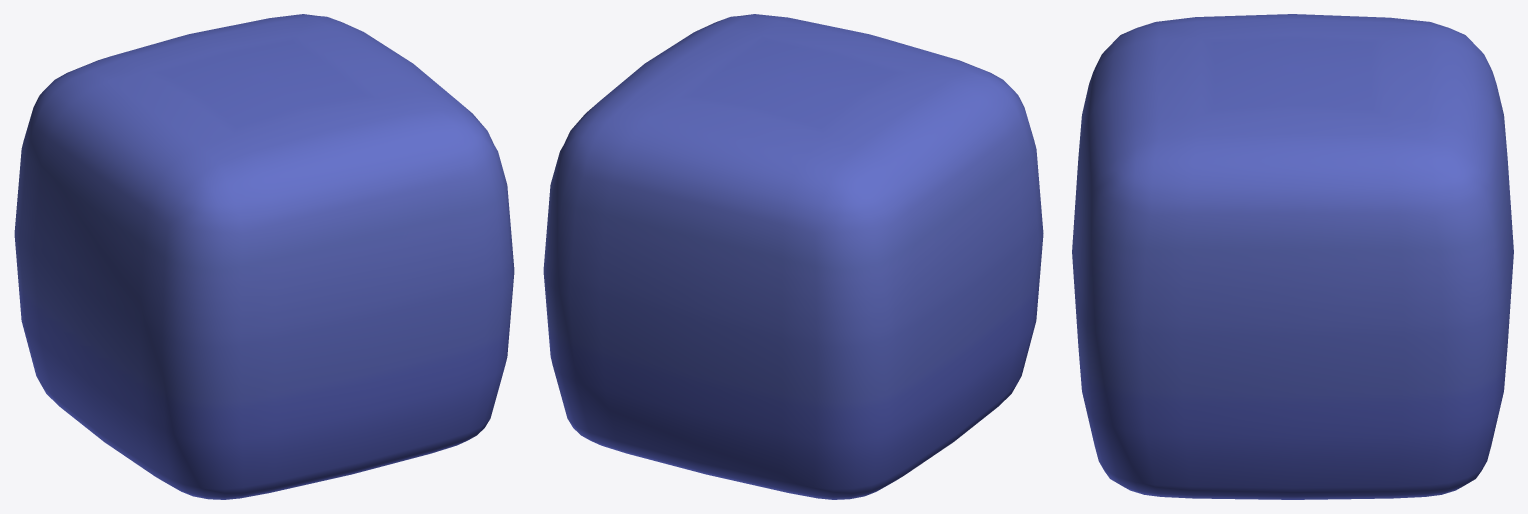
The model's file is Pouf_02.glb.
3 views of the same model, side by side, from view 1: azimuth 30°, elevation 25°; view 2: azimuth 150°, elevation 25°; view 3: azimuth 270°, elevation 25° (orthographic). The views are drawn at different scales.
Parts seen in each view (by area): view 1: Pouf_02; view 2: Pouf_02; view 3: Pouf_02.
Part boxes in pixels (x1,y1,x2,y2): Pouf_02: (14, 14, 514, 499); Pouf_02: (543, 14, 1043, 499); Pouf_02: (1072, 14, 1513, 499).
Bounding box in the file's own units: 0.5408 × 0.4815 × 0.5408.
Materials: 1 (1 with a texture image).
